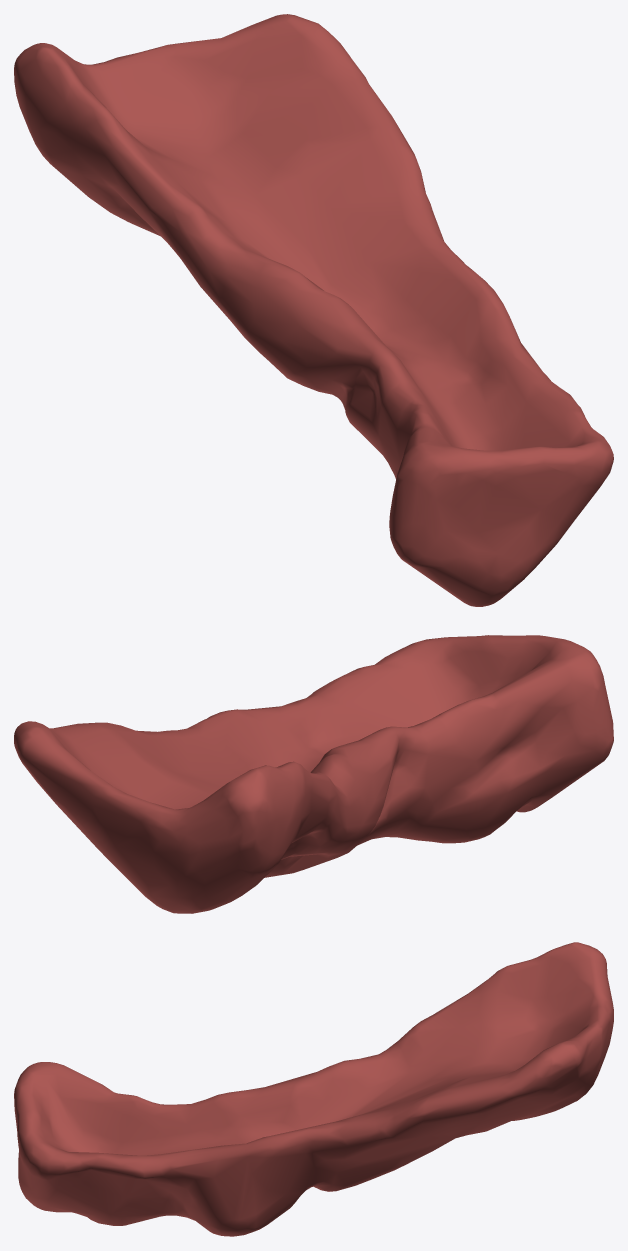
File: FMA72706.glb
The picture shows the model from 3 angles, top to bottom: view 1: azimuth 30°, elevation 25°; view 2: azimuth 150°, elevation 25°; view 3: azimuth 270°, elevation 25°; orthographic projection. The views are drawn at different scales.
Visible parts, largest first — view 1: FMA72706; view 2: FMA72706; view 3: FMA72706.
Boxes of the visible parts, x1,y1,x2,y2 form: FMA72706: (14, 14, 613, 606); FMA72706: (14, 635, 613, 913); FMA72706: (14, 942, 613, 1236).
Size of the model in its own units: 0.02 by 0.0209 by 0.0469.
